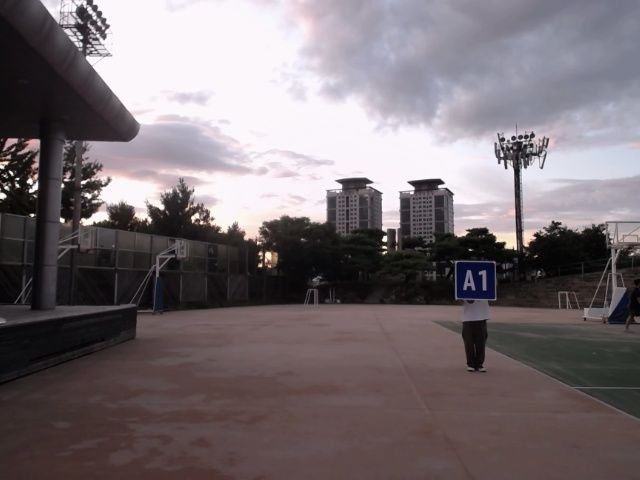delivery_a1: (455, 261, 497, 300)
